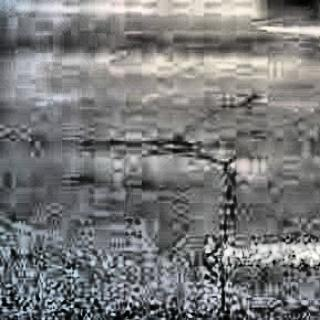alligator-crack: (97, 136, 211, 161)
crack: (206, 161, 239, 320), (175, 87, 277, 136)
